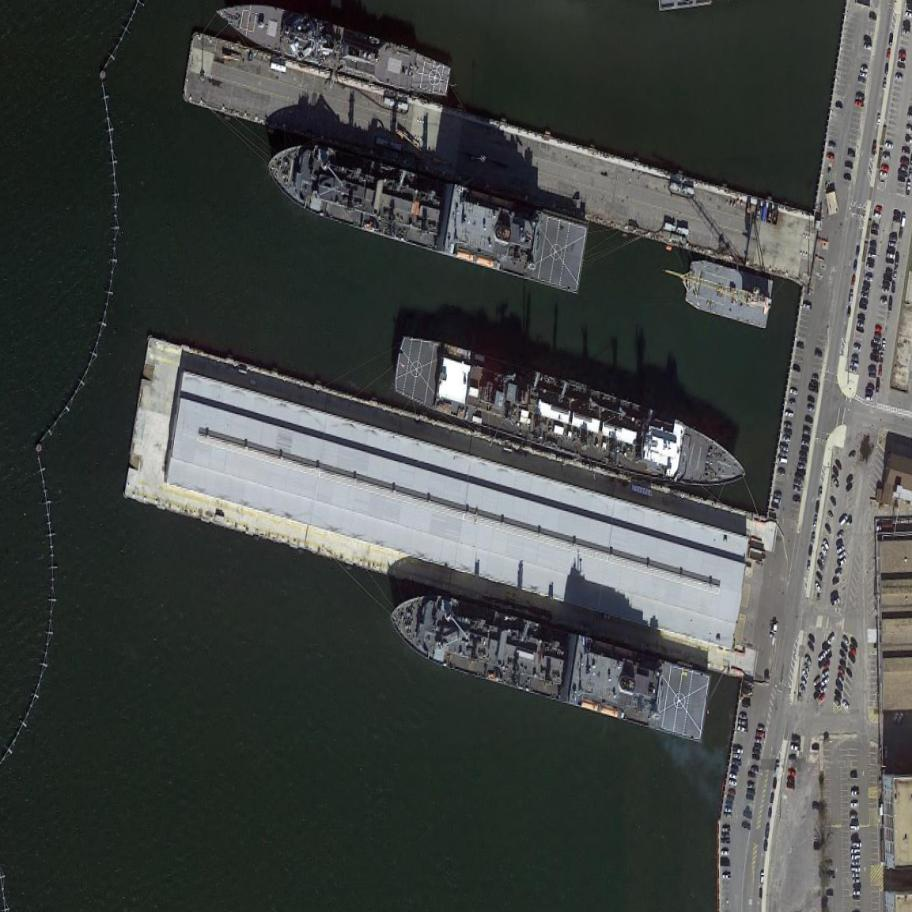ship: (382, 330, 760, 502), (251, 131, 597, 297), (377, 586, 720, 744), (678, 262, 779, 332), (761, 203, 769, 223), (755, 202, 764, 219), (773, 205, 780, 225), (767, 205, 774, 223)
small-vehicle: (839, 514, 850, 528), (846, 652, 857, 666), (741, 820, 753, 831), (841, 700, 852, 712), (836, 557, 848, 568), (737, 725, 750, 735), (743, 679, 756, 689), (839, 649, 850, 660), (822, 539, 832, 551), (834, 680, 844, 692), (812, 676, 824, 686), (818, 552, 826, 566), (837, 550, 848, 560), (831, 597, 842, 607), (833, 690, 843, 701), (821, 678, 832, 688), (838, 659, 848, 670), (806, 641, 816, 652), (844, 668, 854, 679), (831, 467, 840, 479), (726, 779, 738, 788), (831, 476, 840, 488), (816, 559, 825, 571), (814, 581, 823, 593), (823, 523, 832, 535), (829, 495, 838, 507), (850, 637, 859, 649), (848, 826, 861, 834), (849, 645, 857, 658), (834, 569, 844, 579), (844, 483, 854, 493), (807, 633, 817, 643), (818, 695, 828, 705), (812, 688, 822, 698), (813, 352, 824, 361), (851, 854, 862, 863), (815, 570, 824, 581), (840, 642, 849, 653), (842, 635, 851, 646), (805, 656, 814, 667), (820, 545, 828, 557), (804, 662, 811, 675), (900, 157, 910, 166), (756, 730, 766, 739), (852, 841, 862, 850), (836, 545, 846, 554), (845, 474, 854, 484), (833, 697, 842, 707), (837, 674, 846, 684), (818, 658, 828, 667), (817, 653, 827, 662), (795, 344, 806, 352), (783, 423, 794, 431), (738, 719, 749, 727), (800, 677, 808, 688), (851, 867, 863, 874), (799, 683, 806, 695), (802, 669, 809, 681), (835, 538, 844, 547), (836, 530, 845, 539), (822, 669, 831, 678), (850, 354, 860, 362), (803, 303, 813, 311), (794, 474, 804, 482), (800, 445, 810, 453), (804, 418, 814, 426), (835, 460, 843, 470), (868, 16, 878, 24), (888, 235, 898, 243), (751, 767, 761, 775), (776, 759, 781, 775), (827, 510, 835, 520), (828, 635, 836, 645), (837, 666, 845, 676), (897, 713, 904, 724), (721, 873, 732, 880), (846, 516, 853, 527), (759, 869, 764, 884), (880, 297, 889, 305), (801, 440, 810, 448), (849, 451, 857, 460), (721, 859, 730, 867), (831, 577, 840, 585), (815, 682, 823, 691), (820, 685, 829, 693), (822, 660, 831, 668), (824, 647, 833, 655), (807, 397, 817, 404), (790, 389, 800, 396), (809, 385, 819, 392), (732, 753, 742, 760), (734, 747, 744, 754), (754, 738, 764, 745), (743, 810, 753, 817), (744, 688, 754, 695), (893, 713, 900, 723), (851, 277, 857, 288), (849, 819, 860, 825), (906, 182, 911, 195), (813, 515, 818, 528), (747, 793, 755, 801), (853, 344, 862, 351), (859, 304, 868, 311), (781, 445, 790, 452), (803, 430, 812, 437), (787, 401, 796, 408), (792, 367, 801, 374), (835, 102, 844, 109), (740, 713, 749, 720), (786, 783, 795, 790), (769, 512, 778, 519), (850, 361, 860, 367), (778, 458, 788, 464), (785, 413, 795, 419), (889, 34, 894, 46), (856, 95, 866, 101), (880, 165, 890, 171), (852, 890, 862, 896), (729, 773, 739, 779), (757, 726, 767, 732), (853, 878, 863, 884), (852, 861, 862, 867), (850, 803, 860, 809), (787, 769, 797, 775), (789, 757, 799, 763), (721, 827, 731, 833), (868, 366, 876, 373), (861, 292, 869, 299), (876, 378, 880, 392), (800, 451, 808, 458), (875, 211, 883, 218), (902, 214, 906, 228), (898, 176, 906, 183), (825, 652, 833, 659), (876, 115, 881, 126), (891, 281, 896, 292), (856, 245, 861, 256), (768, 807, 773, 818), (851, 849, 862, 854), (764, 840, 769, 851), (871, 356, 880, 362), (856, 329, 865, 335), (794, 482, 803, 488), (798, 464, 807, 470), (783, 436, 792, 442), (882, 287, 891, 293), (859, 72, 868, 78), (860, 66, 869, 72), (867, 252, 876, 258), (893, 210, 902, 216), (899, 166, 908, 172), (791, 745, 800, 751), (773, 498, 782, 504), (774, 493, 783, 499), (880, 350, 884, 363), (816, 501, 820, 514), (819, 487, 823, 500), (866, 265, 876, 270), (741, 703, 751, 708), (807, 561, 812, 571), (728, 795, 735, 802), (864, 282, 872, 288), (850, 367, 858, 373), (865, 390, 873, 396), (865, 396, 873, 402), (803, 424, 811, 430), (845, 163, 853, 169), (898, 64, 906, 70), (895, 74, 903, 80), (865, 44, 873, 50), (885, 143, 893, 149), (871, 230, 879, 236), (895, 253, 899, 265), (868, 258, 876, 264), (887, 247, 895, 253), (883, 155, 891, 161), (902, 147, 910, 153), (731, 765, 739, 771), (857, 318, 866, 323), (889, 297, 892, 312), (802, 436, 811, 441), (853, 260, 858, 269), (753, 754, 762, 759), (728, 789, 737, 794), (852, 873, 861, 878), (721, 850, 730, 855), (721, 839, 730, 844), (847, 306, 851, 317), (883, 78, 887, 89), (894, 269, 898, 280), (773, 778, 777, 789), (766, 825, 770, 836), (759, 888, 763, 899), (875, 334, 882, 340), (793, 487, 800, 493), (812, 380, 819, 386), (884, 272, 891, 278), (899, 48, 906, 54), (899, 53, 906, 59), (755, 743, 762, 749), (772, 502, 779, 508), (879, 367, 883, 377), (872, 351, 880, 356), (868, 373, 876, 378), (857, 323, 865, 328), (857, 315, 867, 319), (780, 452, 788, 457), (797, 470, 805, 475), (799, 458, 807, 463), (887, 49, 891, 59), (885, 268, 893, 273), (885, 63, 889, 73), (859, 78, 867, 83), (887, 254, 895, 259), (872, 224, 880, 229), (899, 228, 903, 238), (893, 217, 901, 222), (747, 785, 757, 789), (770, 793, 774, 803), (812, 749, 820, 754), (812, 533, 816, 543), (793, 497, 801, 502), (850, 290, 853, 303), (873, 141, 876, 154), (862, 288, 871, 292), (733, 761, 742, 765), (721, 834, 730, 838), (874, 345, 881, 350), (876, 327, 883, 332), (848, 151, 855, 156), (856, 102, 863, 107), (888, 243, 895, 248), (880, 172, 887, 177), (725, 808, 732, 813), (852, 790, 859, 795), (787, 780, 794, 785), (866, 386, 874, 390), (748, 773, 756, 777), (748, 790, 756, 794), (792, 740, 800, 744), (854, 884, 862, 888), (788, 775, 796, 779), (883, 338, 886, 348), (813, 375, 819, 380), (870, 247, 876, 252), (809, 546, 812, 556), (884, 279, 891, 283), (778, 471, 785, 475), (828, 143, 835, 147), (845, 177, 852, 181), (899, 59, 906, 63), (870, 242, 877, 246), (899, 171, 906, 175), (725, 814, 732, 818), (726, 802, 733, 806), (875, 340, 881, 344), (866, 277, 872, 281), (884, 283, 890, 287), (808, 408, 814, 412), (753, 751, 761, 754), (851, 814, 857, 818), (861, 300, 868, 303), (827, 156, 834, 159), (854, 888, 862, 890)
